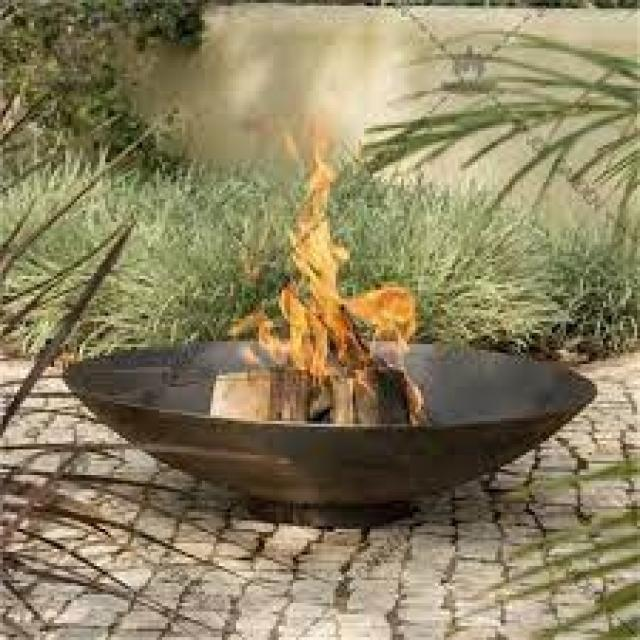fire: (227, 115, 418, 380)
